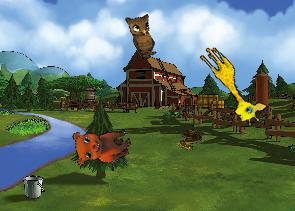bear: (67, 114, 135, 173)
giraffe: (189, 42, 271, 130)
owl: (120, 7, 168, 61)
